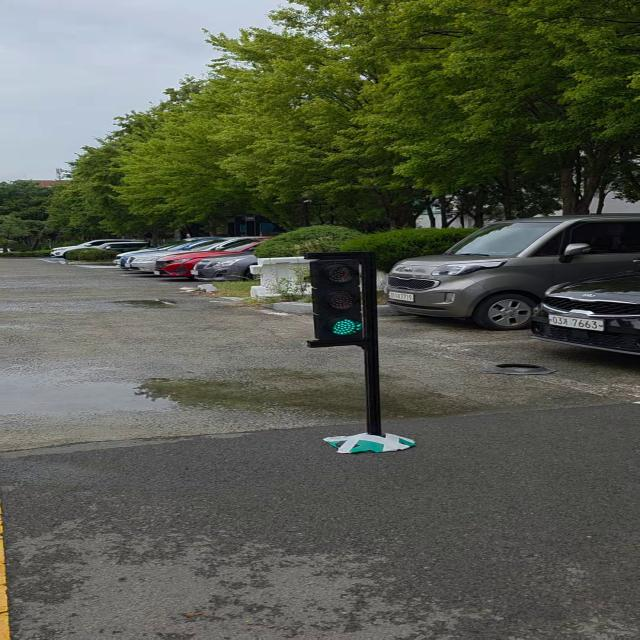green: (311, 254, 381, 348)
